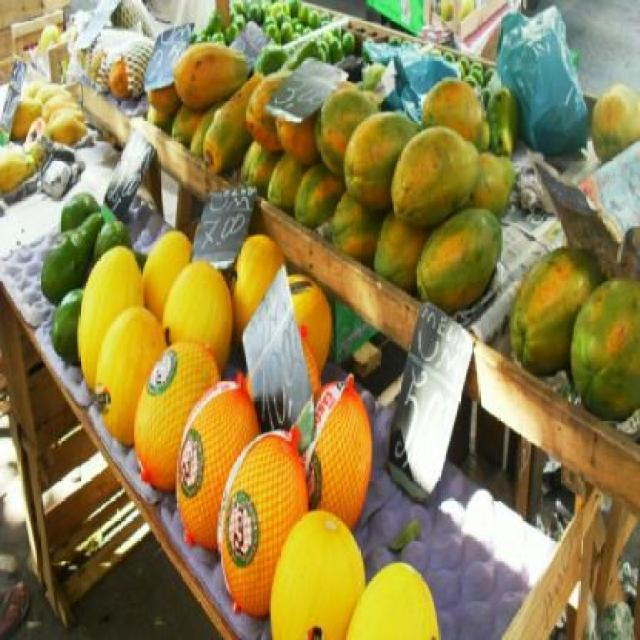Banana: (38, 26, 58, 54)
